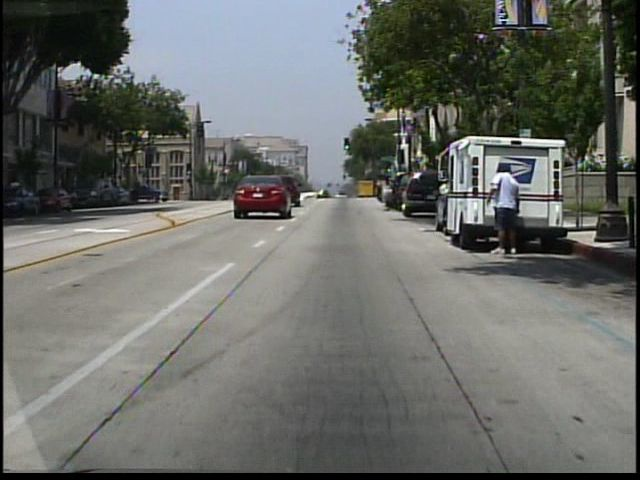person: (480, 162, 524, 256), (377, 173, 395, 214)
